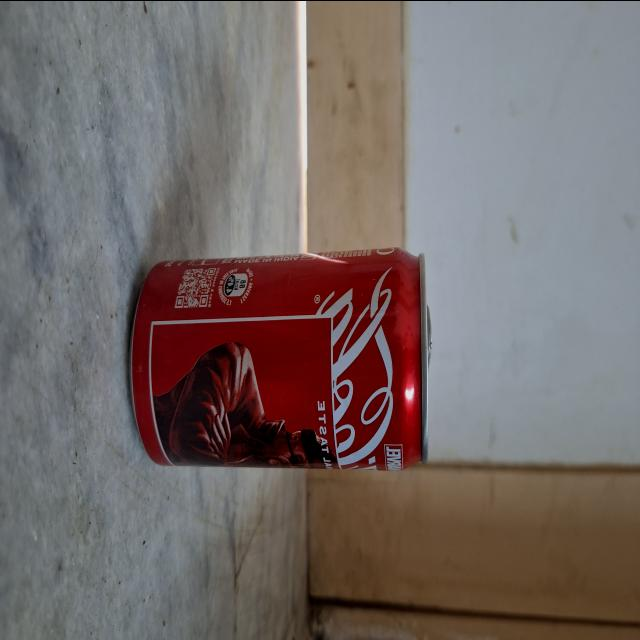Coca Cola - Marvel: (136, 248, 426, 476)
